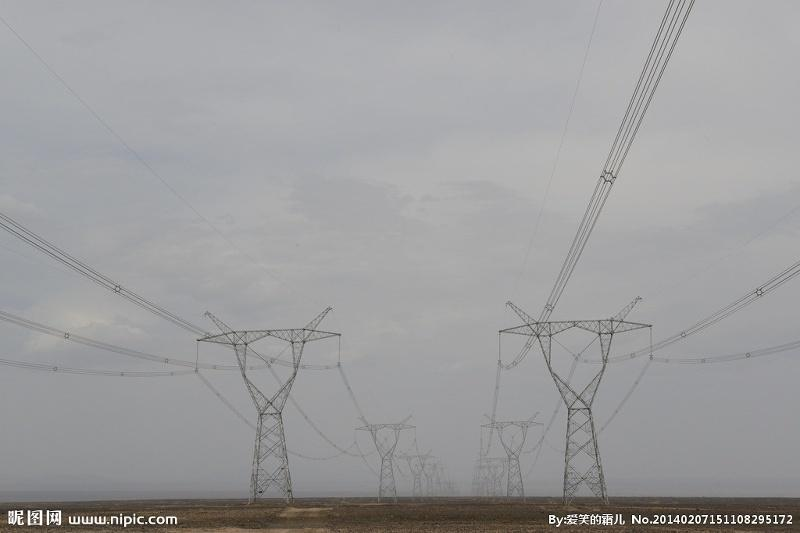power_tower: (491, 289, 666, 499), (193, 303, 338, 498), (471, 406, 542, 497), (355, 409, 410, 499)
